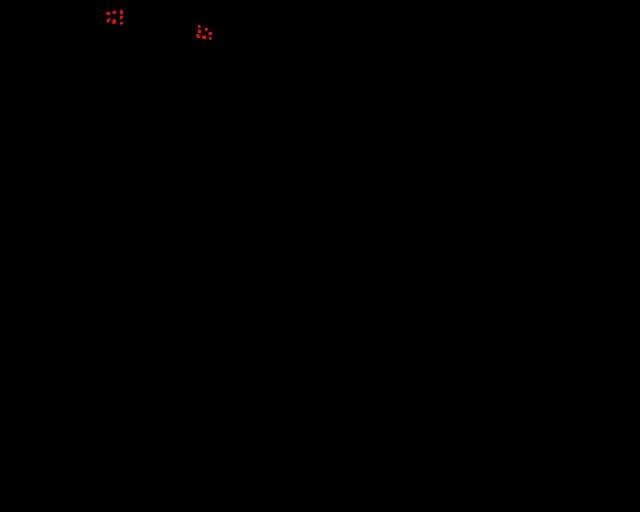Target: (112, 19, 116, 24), (196, 34, 200, 38), (202, 35, 206, 39), (120, 10, 123, 15), (107, 18, 110, 23), (112, 11, 116, 14), (106, 12, 110, 15), (198, 29, 201, 33), (208, 32, 212, 35), (120, 16, 123, 19), (120, 22, 123, 25), (198, 25, 201, 28), (205, 28, 208, 31), (209, 37, 212, 40)
